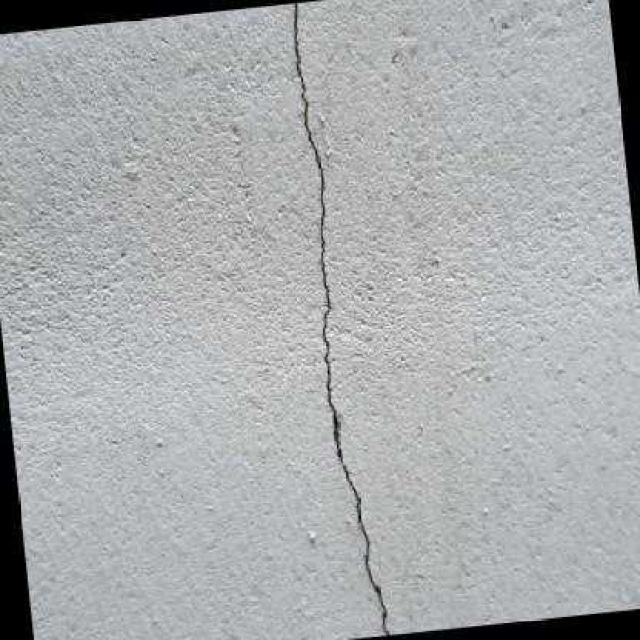D00: (292, 1, 387, 635)
